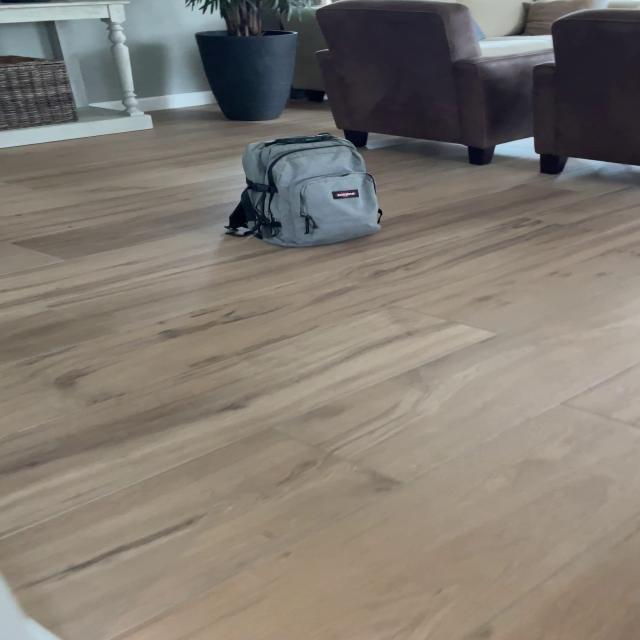backpack: (218, 128, 388, 252)
